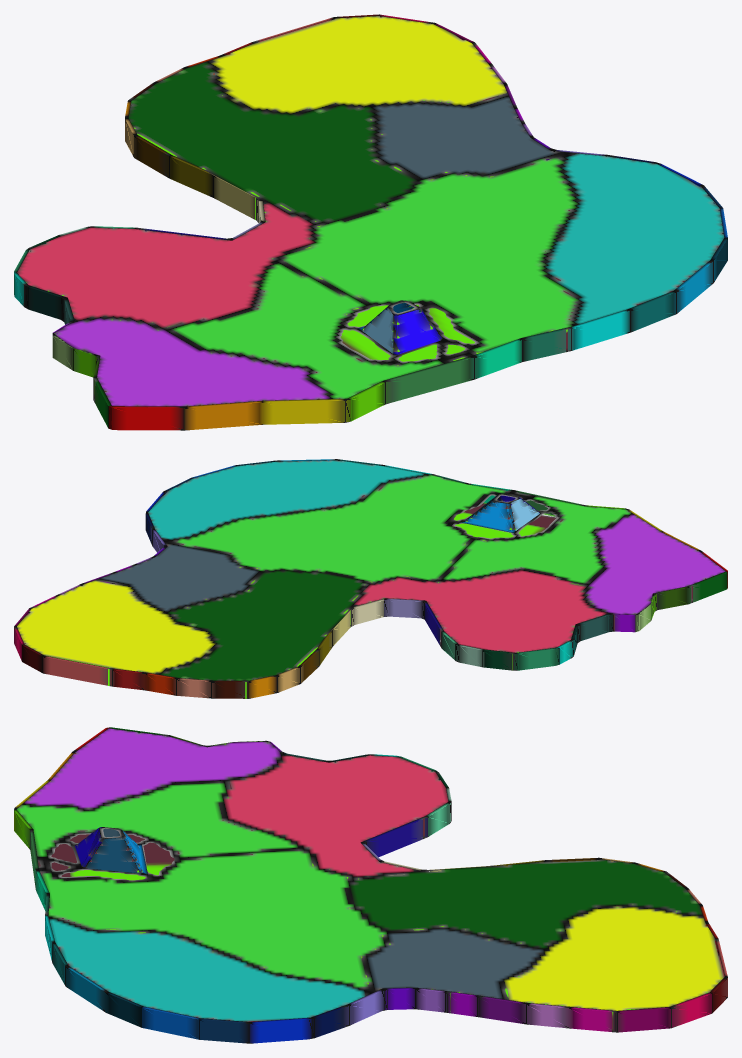
Rendered from mapV2.fbx.
The picture shows the model from 3 angles, top to bottom: view 1: azimuth 30°, elevation 25°; view 2: azimuth 150°, elevation 25°; view 3: azimuth 270°, elevation 25°; orthographic projection. The views are drawn at different scales.
Parts seen in each view (by area): view 1: Plane; view 2: Plane; view 3: Plane.
Boxes of the visible parts, x1=… form: Plane: x1=14, y1=14, x2=727, y2=430; Plane: x1=14, y1=459, x2=727, y2=698; Plane: x1=14, y1=727, x2=727, y2=1043.
Bounding box in the file's own units: 31258 × 2174 × 31840.
1 material, 1 textured.
